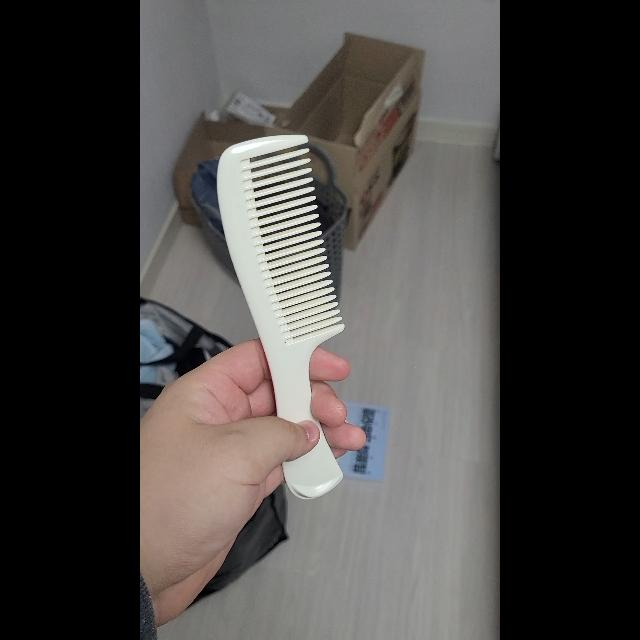COMB: (216, 134, 344, 500)
